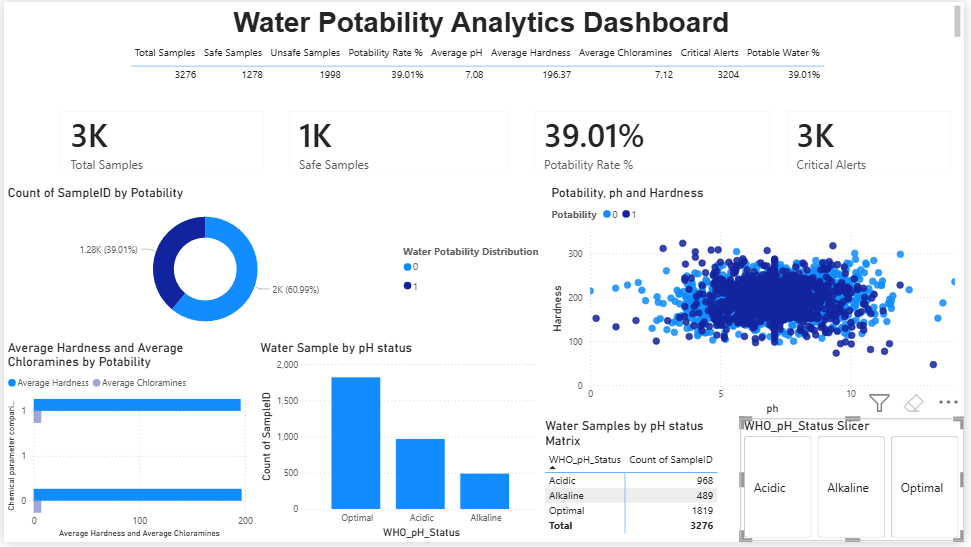

The dashboard page shown, as its layout file describes it:
{"tool":"powerbi","page":{"name":"Page 1","canvas":[1280,720],"ordinal":0},"visuals":[{"type":"tableEx","fields":{"Values":["KPI_Measures.Total Samples","KPI_Measures.Safe Samples","KPI_Measures.Unsafe Samples","KPI_Measures.Potability Rate %","KPI_Measures.Average pH","KPI_Measures.Average Hardness","KPI_Measures.Average Chloramines","KPI_Measures.Critical Alerts","KPI_Measures.Potable Water %"]},"box":[163.3,52.2,953.3,75.6],"z":0},{"type":"cardVisual","fields":{"Data":["KPI_Measures.Total Samples"]},"box":[58.3,128.3,305,115],"z":1000},{"type":"cardVisual","fields":{"Data":["KPI_Measures.Safe Samples"]},"box":[363.3,128.3,326.7,115],"z":2000},{"type":"cardVisual","fields":{"Data":["KPI_Measures.Potability Rate %"]},"box":[690,128.3,348.3,115],"z":3000},{"type":"cardVisual","fields":{"Data":["KPI_Measures.Critical Alerts"]},"box":[1026.7,128.3,253.3,115],"z":4000},{"type":"textbox","box":[0,0,1280,52.2],"z":5000},{"type":"clusteredBarChart","fields":{"Category":["Fact_Water_Samples.Potability"],"Y":["KPI_Measures.Average Hardness","KPI_Measures.Average Chloramines"]},"box":[0,450,336.7,270],"z":5001},{"type":"donutChart","fields":{"Category":["Fact_Water_Samples.Potability"],"Y":["CountNonNull(Fact_Water_Samples.SampleID)"]},"box":[0,243.3,725,206.7],"z":5002},{"type":"scatterChart","fields":{"X":["Fact_Water_Samples.ph"],"Y":["Fact_Water_Samples.Hardness"],"Series":["Fact_Water_Samples.Potability"]},"box":[725,243.3,555,311.7],"z":5003},{"type":"pivotTable","title":"Water Samples by pH  status Matrix","fields":{"Rows":["Fact_Water_Samples.WHO_pH_Status"],"Values":["CountNonNull(Fact_Water_Samples.SampleID)"]},"box":[716.7,555,265,165],"z":5004},{"type":"clusteredColumnChart","title":"Water Sample by pH status","fields":{"Category":["Fact_Water_Samples.WHO_pH_Status"],"Y":["CountNonNull(Fact_Water_Samples.SampleID)"]},"box":[336.7,450,380,270],"z":5005},{"type":"advancedSlicerVisual","title":"WHO_pH_Status Slicer","fields":{"Values":["Fact_Water_Samples.WHO_pH_Status"]},"box":[981.7,555,298.3,165],"z":5006}]}

Visuals, with their boxes in screenshot pixels (x1, y1, x2, y2), scaled from the page's 1280x720 canvas onto the 971x547 screenshot:
tableEx - KPI_Measures.Total Samples x KPI_Measures.Safe Samples: detection(124, 40, 847, 97)
cardVisual - KPI_Measures.Total Samples: detection(44, 97, 276, 185)
cardVisual - KPI_Measures.Safe Samples: detection(276, 97, 523, 185)
cardVisual - KPI_Measures.Potability Rate %: detection(523, 97, 788, 185)
cardVisual - KPI_Measures.Critical Alerts: detection(779, 97, 970, 185)
textbox: detection(0, 0, 970, 40)
clusteredBarChart - Fact_Water_Samples.Potability x KPI_Measures.Average Hardness: detection(0, 342, 255, 546)
donutChart - Fact_Water_Samples.Potability x CountNonNull(Fact_Water_Samples.SampleID): detection(0, 185, 550, 342)
scatterChart - Fact_Water_Samples.ph x Fact_Water_Samples.Hardness: detection(550, 185, 970, 422)
"Water Samples by pH  status Matrix" pivotTable: detection(544, 422, 745, 546)
"Water Sample by pH status" clusteredColumnChart: detection(255, 342, 544, 546)
"WHO_pH_Status Slicer" advancedSlicerVisual: detection(745, 422, 970, 546)
